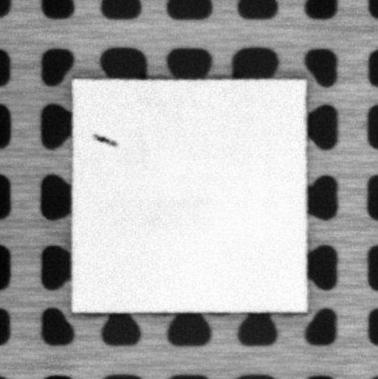DIE_INK: (92, 133, 117, 146)
